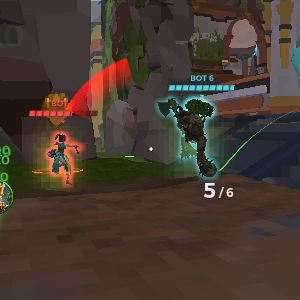model: (45, 127, 76, 192)
